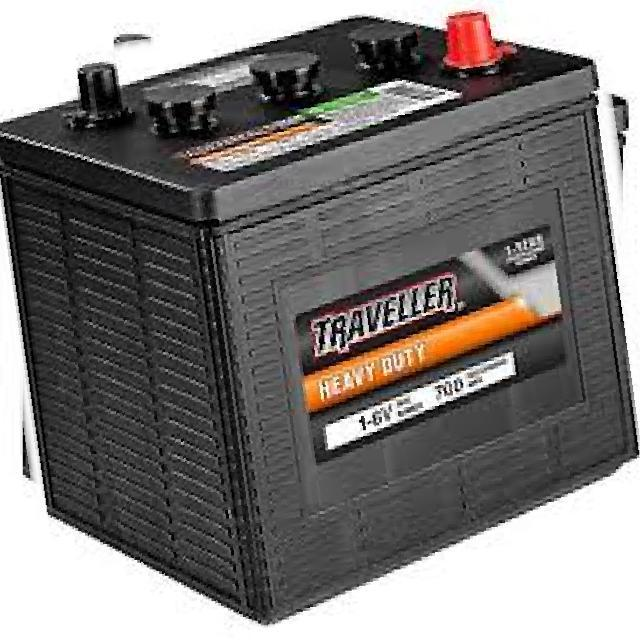Battery: (0, 2, 640, 614)
